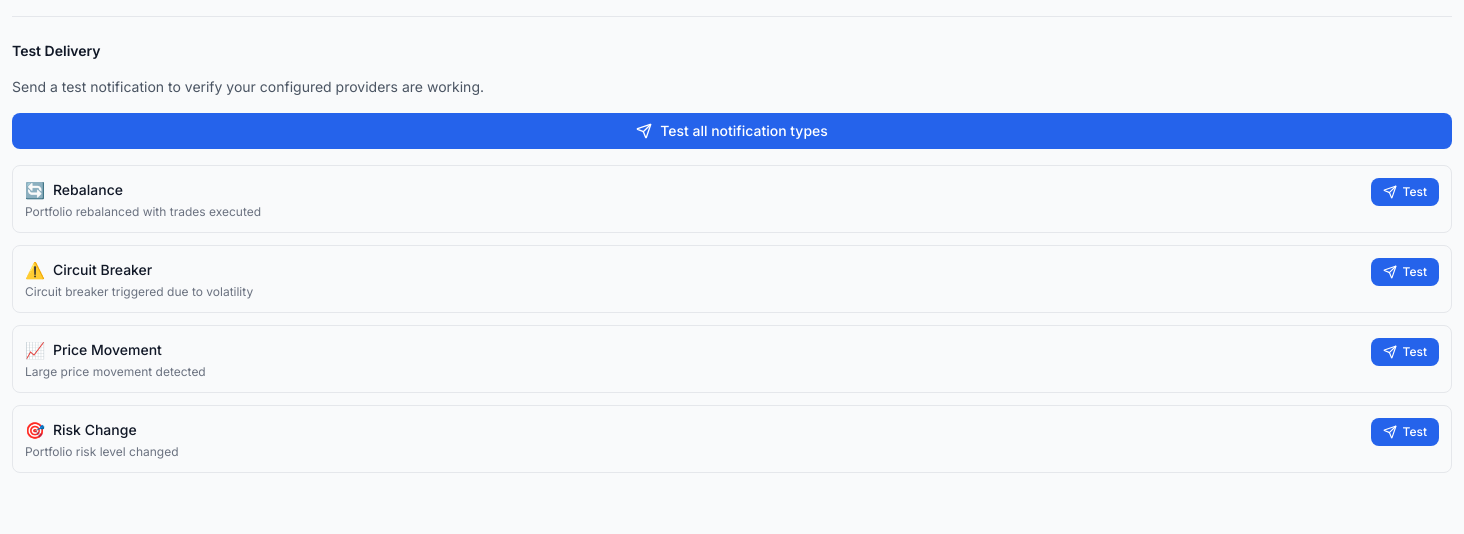
Test: NotificationTest › displays inline failure result and shows Retry button on error
Click the button with aria-label "test rebalance". click: (1405, 192)
box: [1370,178,1439,206]
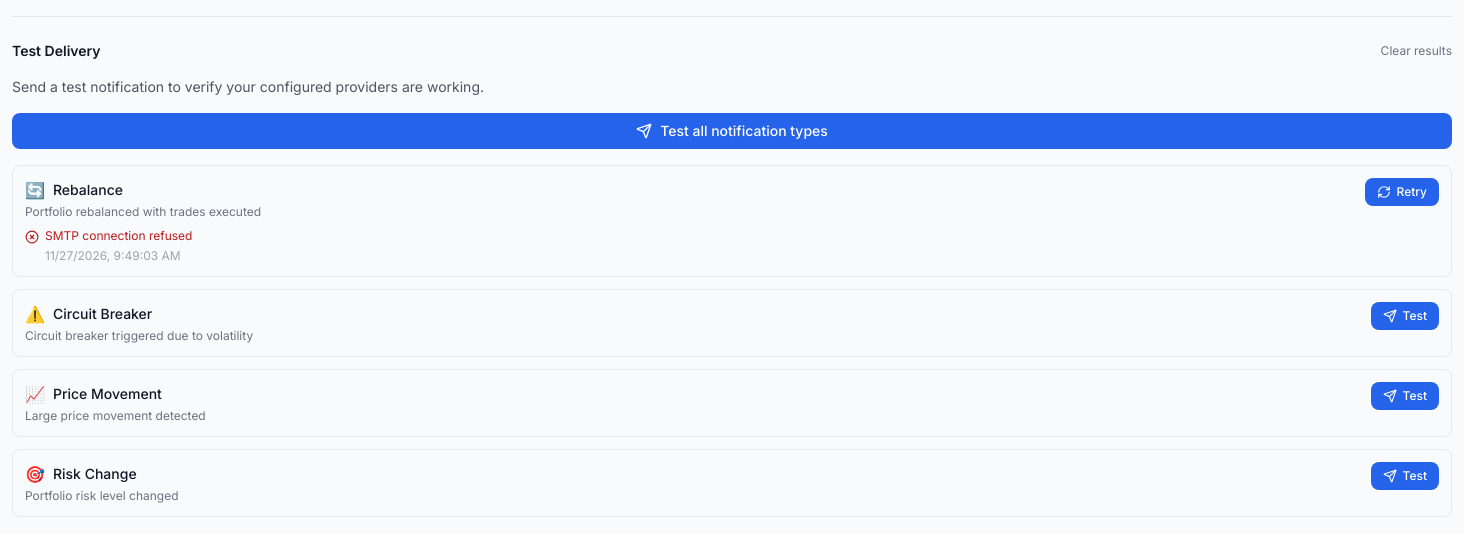
Expected: the text "SMTP connection refused" is shown, [45,228,192,244]
Expected: the button with aria-label "retry rebalance test" is shown, [1364,178,1439,206]
